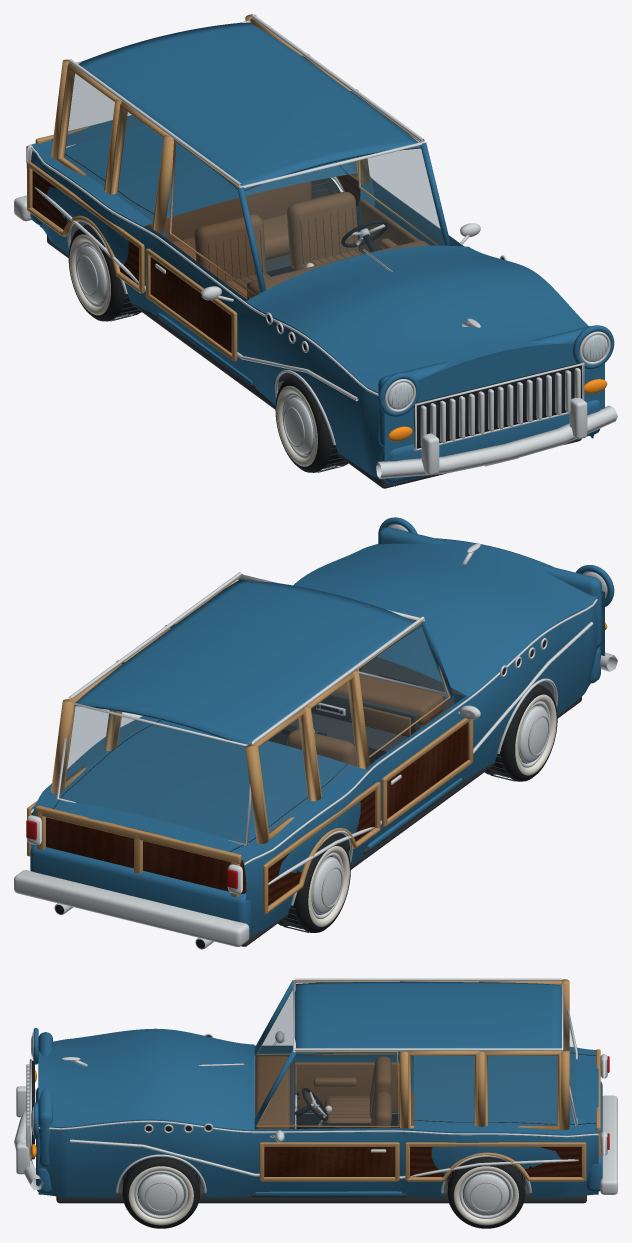
3 renders of one model, top to bottom at view 1: azimuth 30°, elevation 25°; view 2: azimuth 150°, elevation 25°; view 3: azimuth 270°, elevation 25°, orthographic. The views are drawn at different scales.
Parts seen in each view (by area): view 1: Body, DoorMesh_R, DoorMesh_L, WheelMesh_FR, WheelMesh_RR; view 2: Body, DoorMesh_R, WheelMesh_FR, WheelMesh_RR; view 3: Body, DoorMesh_L, DoorMesh_R, WheelMesh_FL, WheelMesh_RL, SteeringWheelMesh.
Boxes of the visible parts, <box> form: Body: <box>14,14,617,488</box>; DoorMesh_R: <box>145,139,260,385</box>; DoorMesh_L: <box>356,95,480,253</box>; WheelMesh_FR: <box>275,375,348,472</box>; WheelMesh_RR: <box>68,224,141,321</box>; Body: <box>14,517,617,949</box>; DoorMesh_R: <box>357,621,480,849</box>; WheelMesh_FR: <box>484,684,557,781</box>; WheelMesh_RR: <box>278,836,350,932</box>; Body: <box>14,978,617,1203</box>; DoorMesh_L: <box>254,1051,402,1195</box>; DoorMesh_R: <box>254,981,399,1113</box>; WheelMesh_FL: <box>122,1157,200,1228</box>; WheelMesh_RL: <box>447,1157,525,1228</box>; SteeringWheelMesh: <box>302,1088,328,1120</box>.
Bounding box in the file's own units: 2.41 × 1.84 × 5.76.
Materials: 15 (1 with a texture image).
